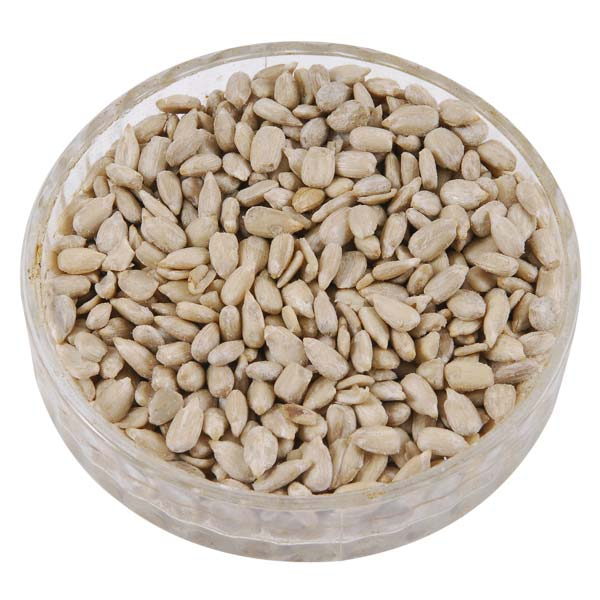seed: (34, 58, 562, 504)
